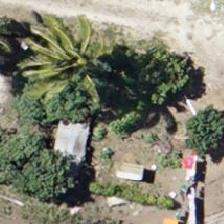coconut_tree: (20, 12, 110, 102)
